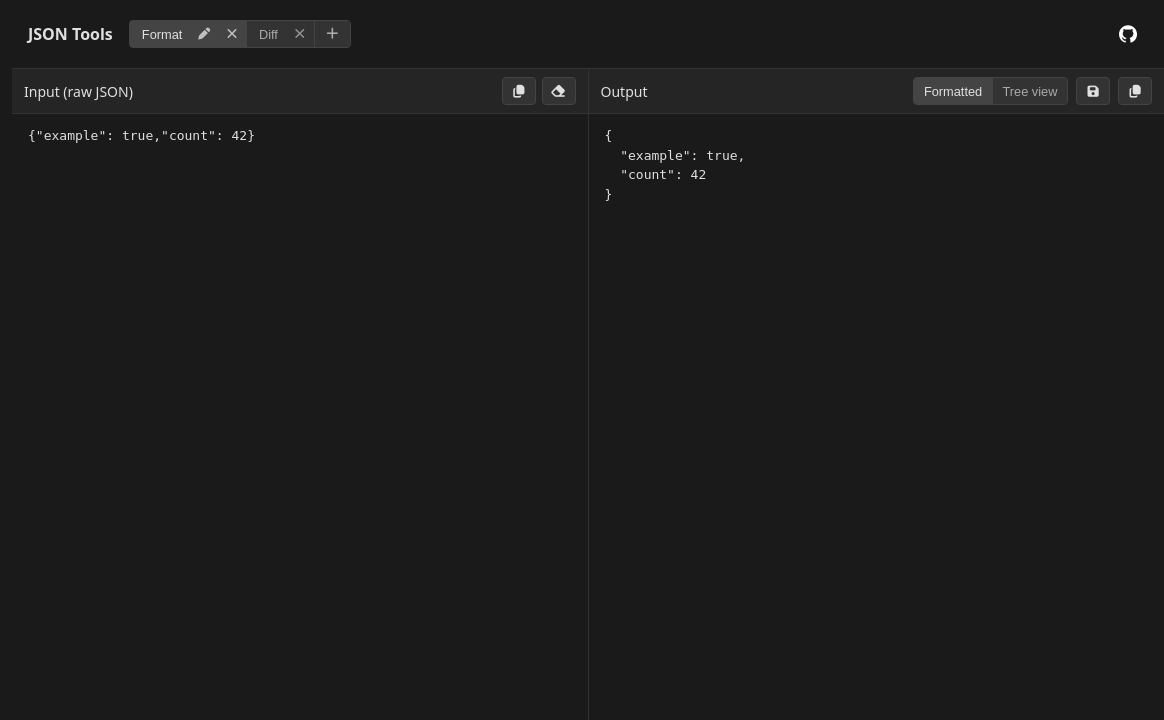
App › can add a new Format tab via the add menu
Click the button named "add tab" at (332, 34), box [315,21,350,47]
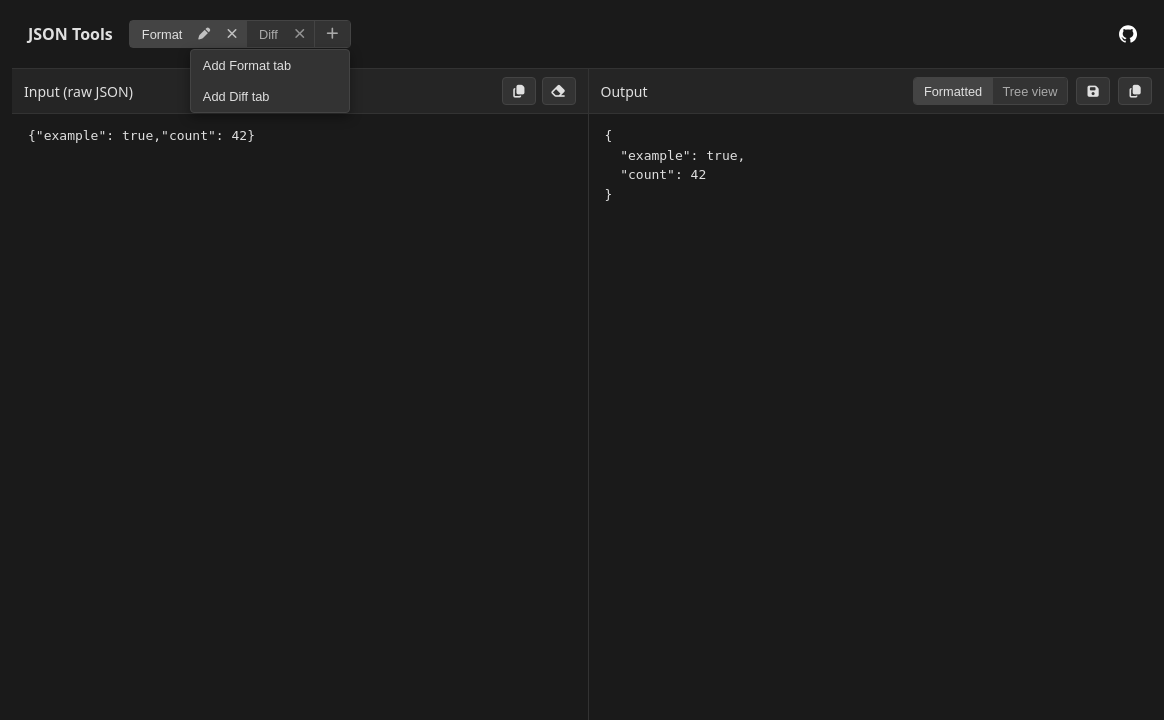
Click the menu item "Add Format tab" at (270, 66), box [191,50,349,81]
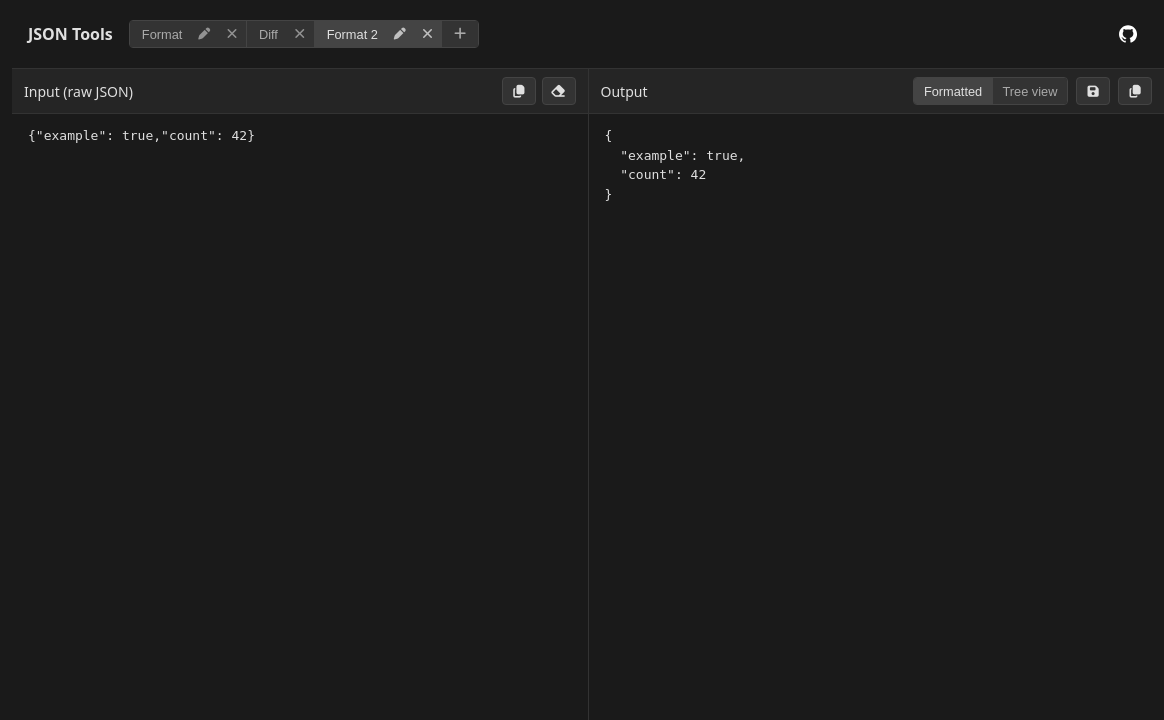
Expected: the number of tabs "Format" is 2, [130,21,190,47]; [315,21,386,47]
Expected: the tab "Format 2" is shown, [315,21,386,47]
